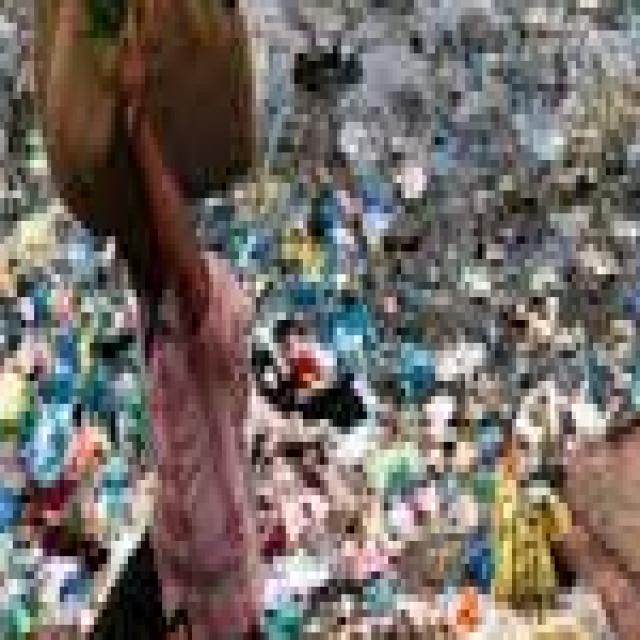-: (345, 23, 640, 427)
